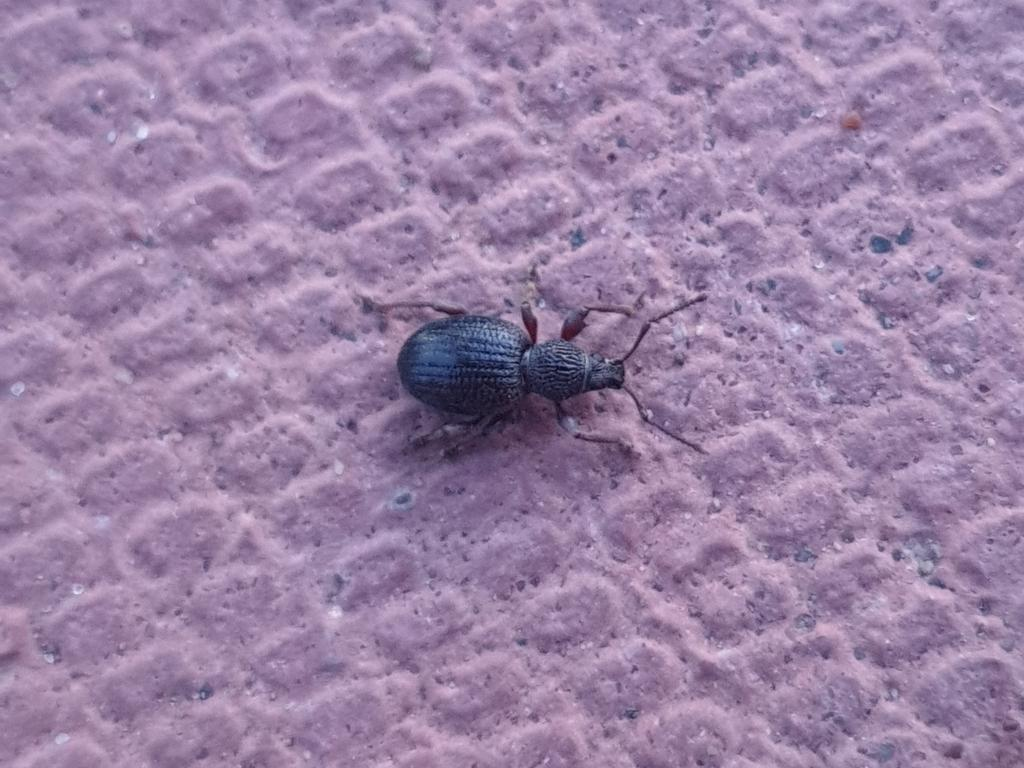weevils: (344, 229, 734, 523)
